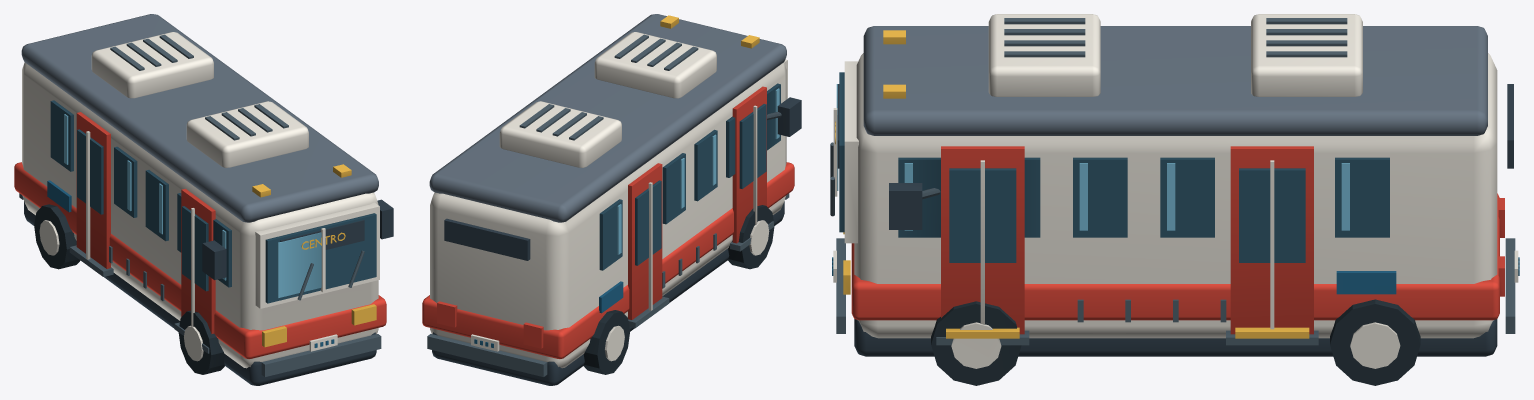
The model's file is city-bus.glb.
3 views of the same model, side by side, from view 1: azimuth 30°, elevation 25°; view 2: azimuth 150°, elevation 25°; view 3: azimuth 270°, elevation 25° (orthographic). The views are drawn at different scales.
Parts seen in each view (by area): view 1: passenger body, roof, side windows, lower stripe, door step, chassis, window reflection, wheel, headlamp, plate characters; view 2: passenger body, roof, lower stripe, side windows, chassis, door step, wheel, window reflection, plate characters, headlamp; view 3: passenger body, roof, lower stripe, side windows, chassis, door step, wheel, headlamp, window reflection, plate characters.
Part boxes in pixels (bbox=[...]): passenger body: bbox=[22, 32, 379, 368]; roof: bbox=[21, 14, 378, 222]; side windows: bbox=[50, 100, 376, 303]; lower stripe: bbox=[14, 112, 386, 359]; door step: bbox=[19, 34, 381, 376]; chassis: bbox=[24, 199, 393, 385]; window reflection: bbox=[64, 114, 321, 297]; wheel: bbox=[34, 204, 224, 374]; headlamp: bbox=[252, 164, 376, 347]; plate characters: bbox=[47, 180, 334, 347]; passenger body: bbox=[430, 32, 787, 368]; roof: bbox=[429, 14, 786, 222]; lower stripe: bbox=[422, 86, 794, 359]; side windows: bbox=[599, 83, 780, 270]; chassis: bbox=[432, 97, 801, 385]; door step: bbox=[427, 34, 789, 376]; wheel: bbox=[583, 205, 774, 374]; window reflection: bbox=[617, 88, 779, 254]; plate characters: bbox=[474, 281, 623, 347]; headlamp: bbox=[660, 15, 759, 48]; passenger body: bbox=[833, 14, 1518, 368]; roof: bbox=[863, 26, 1487, 135]; lower stripe: bbox=[851, 146, 1504, 334]; side windows: bbox=[839, 72, 1389, 262]; chassis: bbox=[837, 84, 1513, 356]; door step: bbox=[830, 18, 1515, 345]; wheel: bbox=[931, 299, 1420, 385]; headlamp: bbox=[835, 30, 1309, 338]; window reflection: bbox=[836, 84, 1349, 230]; plate characters: bbox=[832, 257, 1519, 294].
Size of the model in its own units: 1.2 by 1.37 by 2.89.
